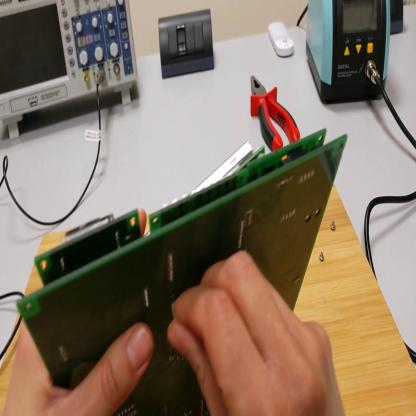hand: (6, 207, 153, 413), (167, 254, 344, 413)
low voltage board: (14, 129, 350, 416)
oscilloscope: (1, 3, 138, 138)
pliers: (250, 71, 302, 150)
socket: (390, 2, 406, 35)
welder station: (308, 2, 392, 106)
working area: (1, 187, 416, 414)
